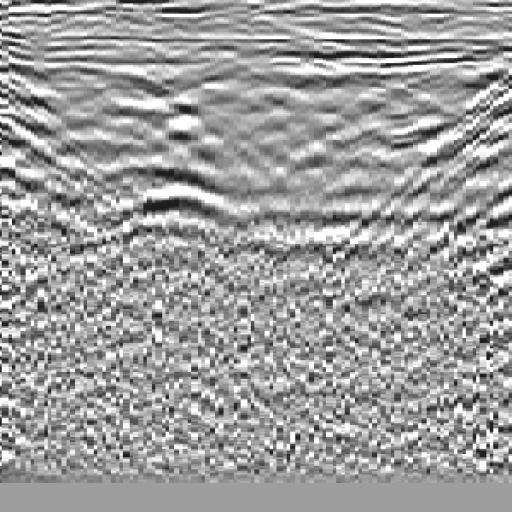metalic: (90, 43, 256, 275)
nonmetalic: (369, 49, 512, 268)
